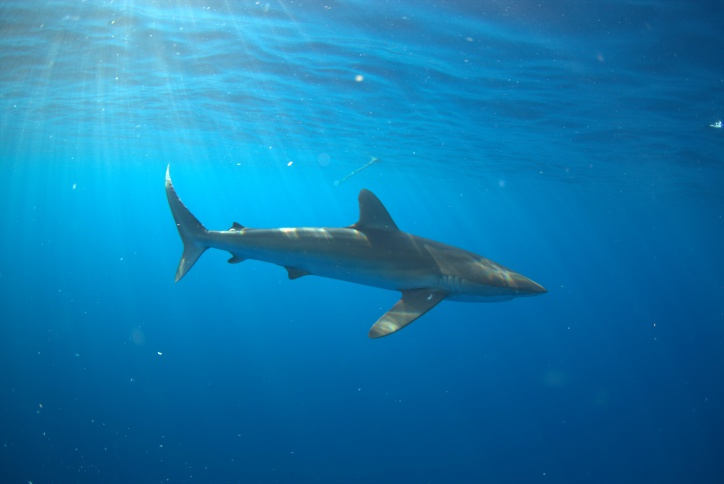Sedoso: (150, 156, 564, 351)
